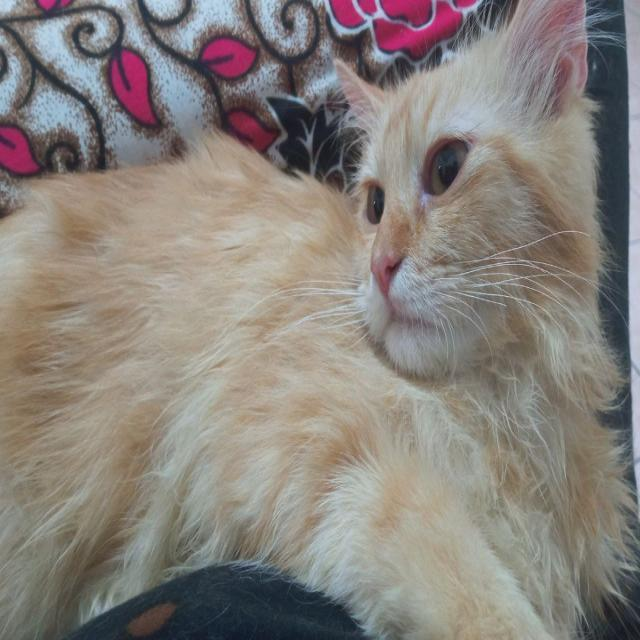da khoe manh: (8, 232, 370, 474)
